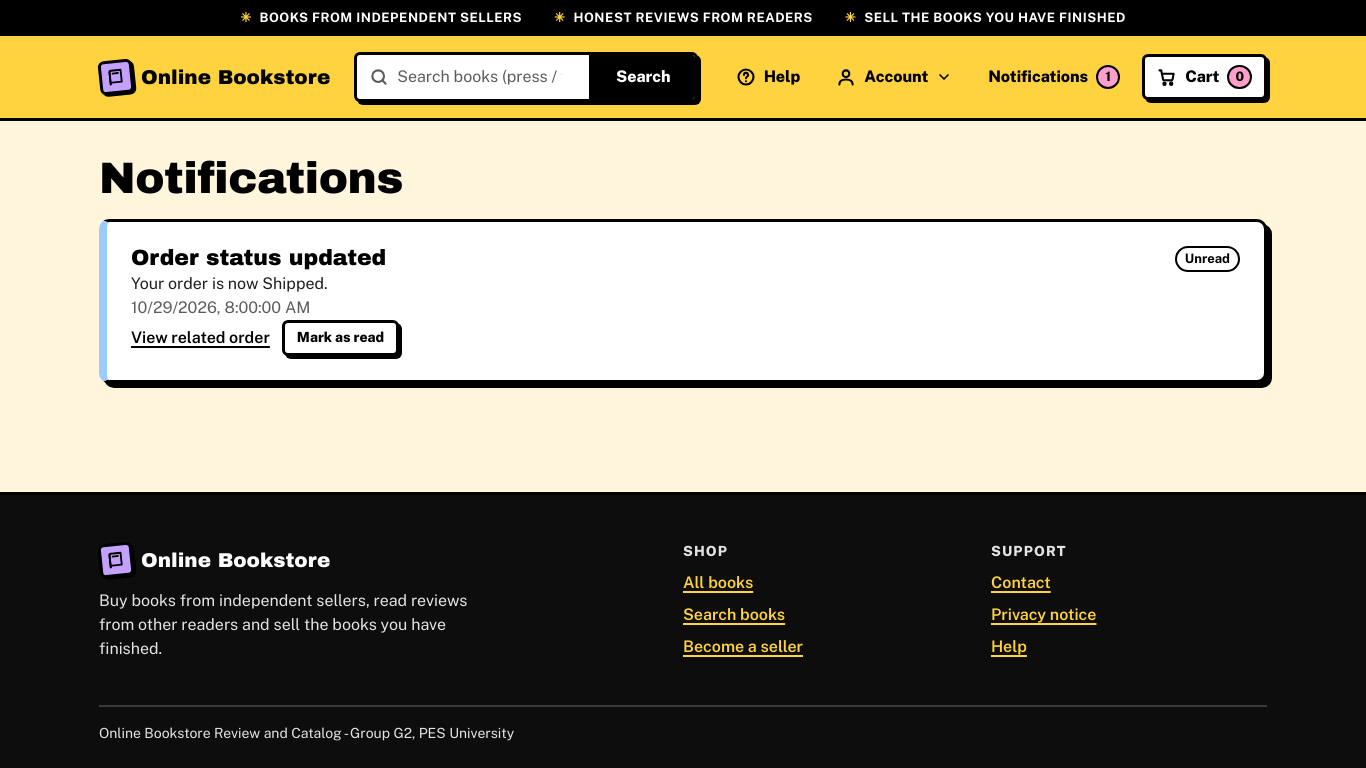
Test: lists the related order and marks a notification as read
This screenshot has width=1366, height=768.
Click the button "Mark as read": point(341, 338) [282,320,399,356]
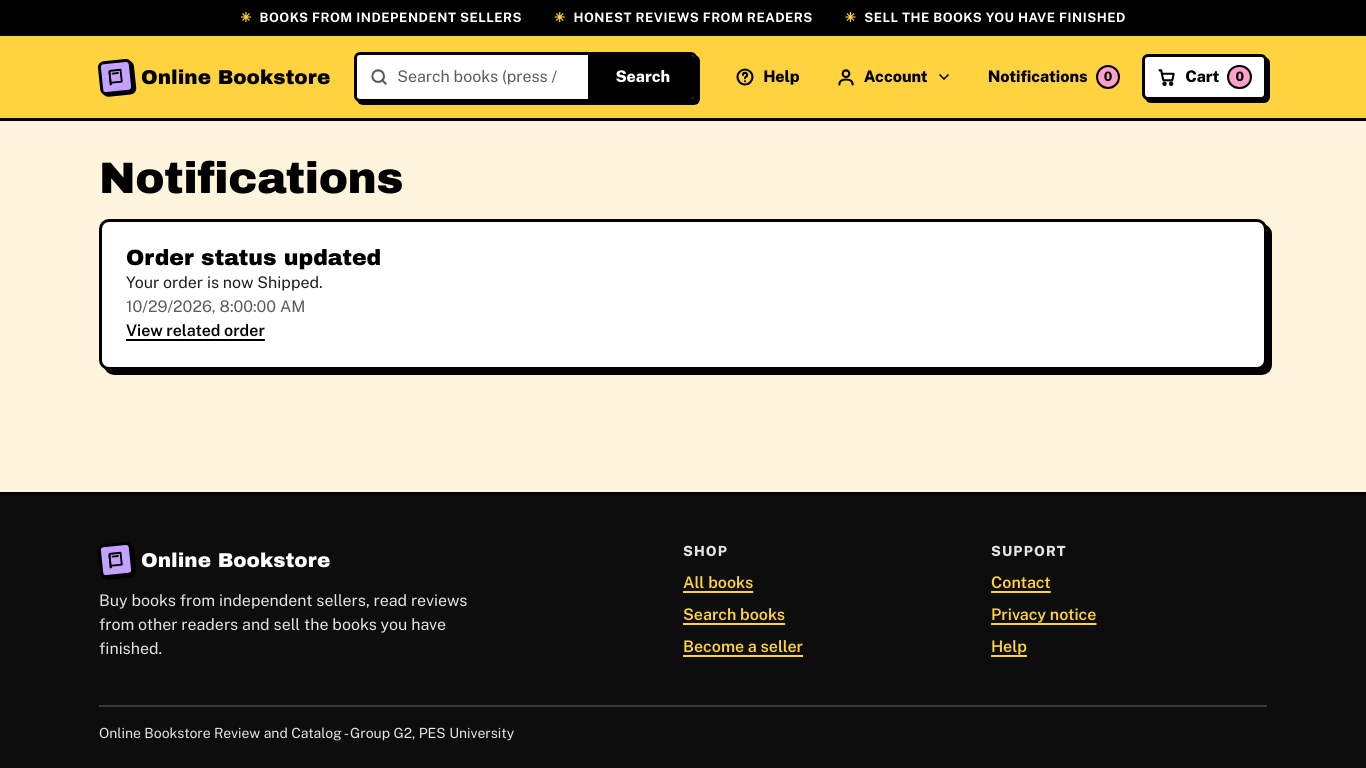
Expected: the heading "Order status updated" is shown, [126,246,381,271]
Expected: the button "Mark as read" is gone
